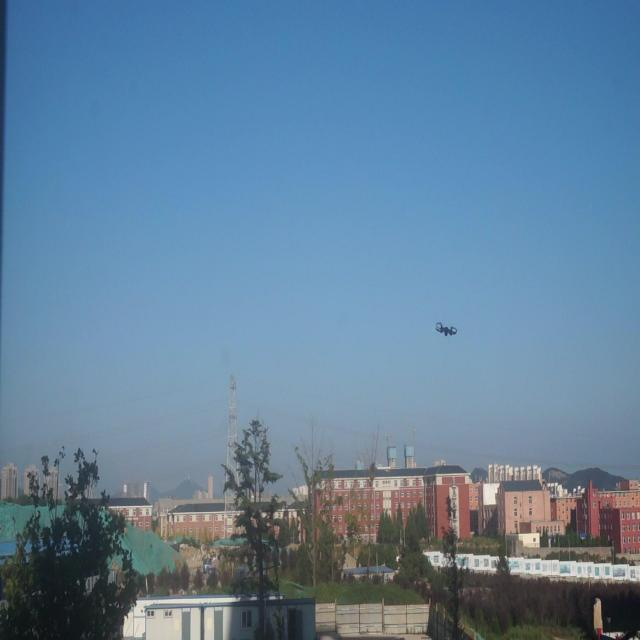UAV: (435, 322, 457, 336)
